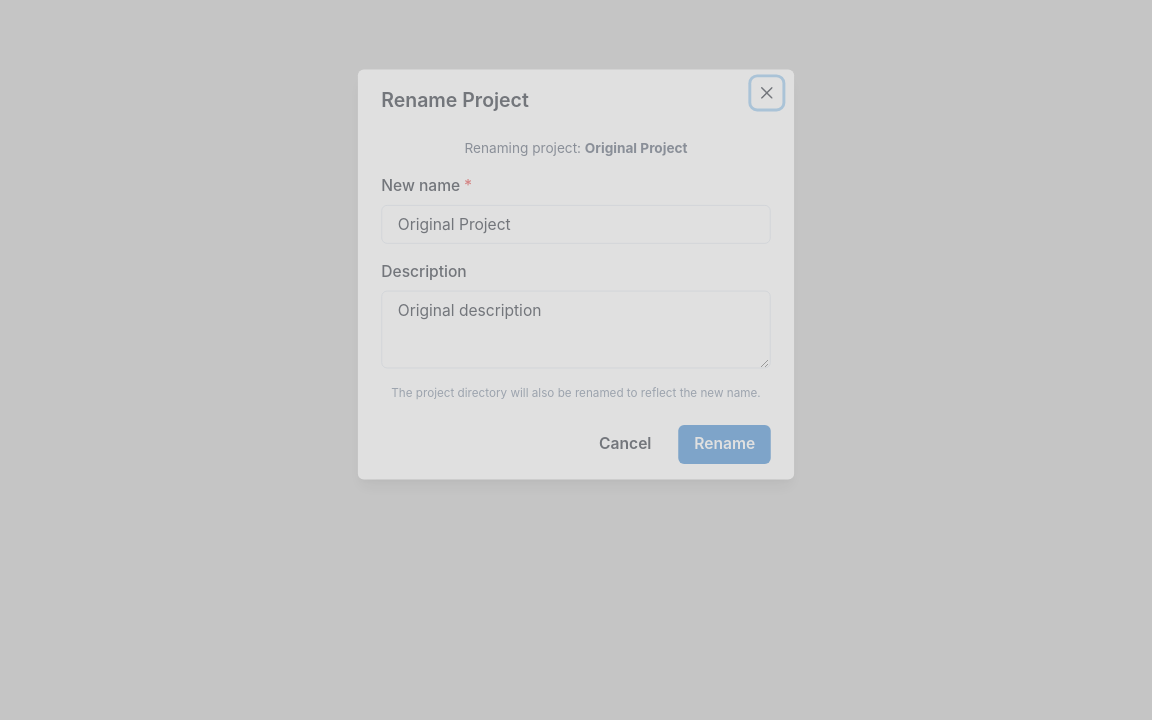
it: RenameProjectModal › shows loading state during submission
Click the button "Rename".
click(725, 444)  # box [679,425,771,464]
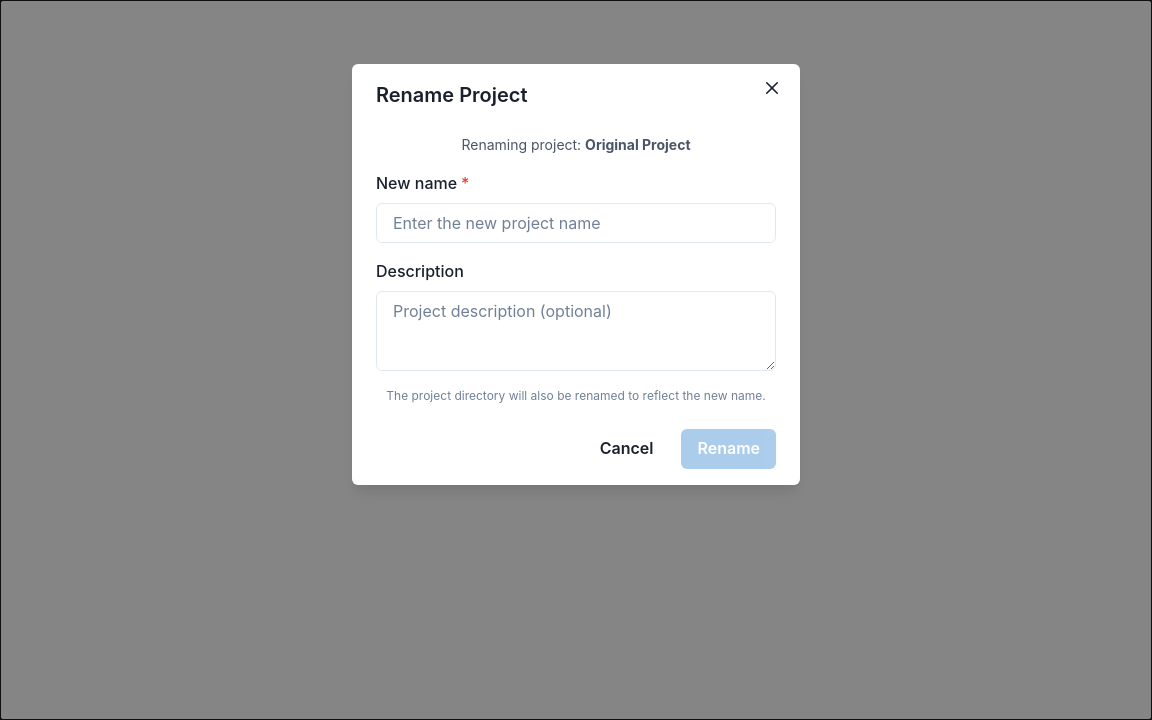
Expected: the button "Renaming..." is disabled, [682,429,776,469]
